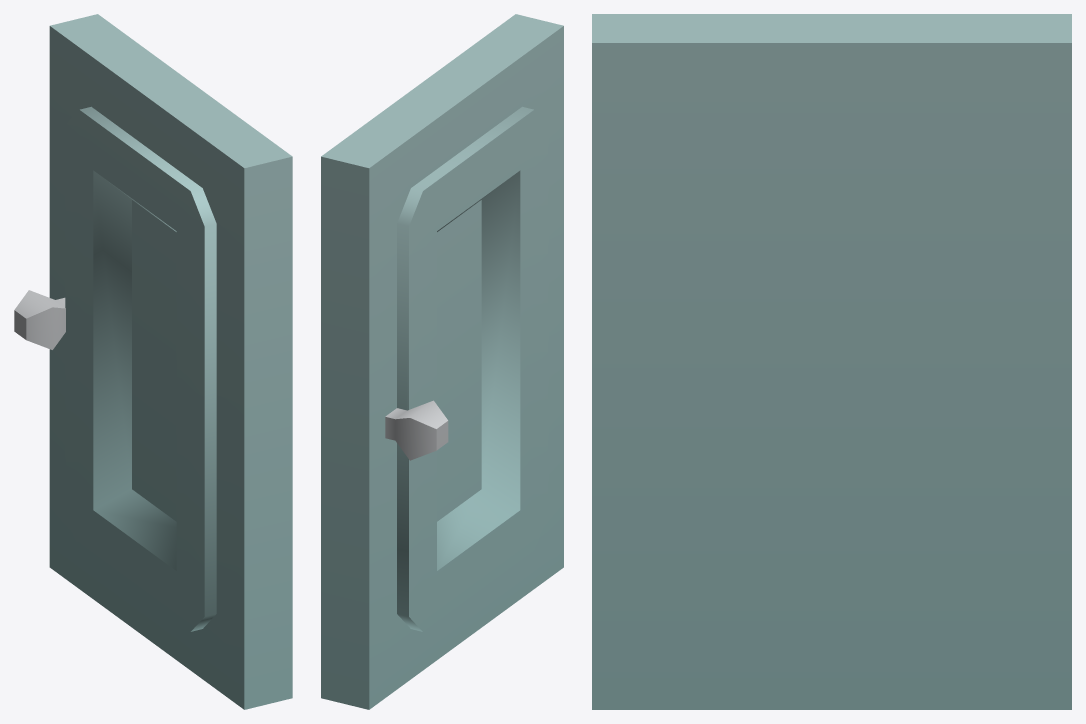
File: (%no-merge) (%open-right) 1.glb
The picture shows the model from 3 angles, left to right: view 1: azimuth 30°, elevation 25°; view 2: azimuth 150°, elevation 25°; view 3: azimuth 270°, elevation 25°; orthographic projection. The views are drawn at different scales.
Parts seen in each view (by area): view 1: (%no-merge) (%open-right) 1; view 2: (%no-merge) (%open-right) 1; view 3: (%no-merge) (%open-right) 1.
Part boxes in pixels (box(x1,y1,x2,y2)): (%no-merge) (%open-right) 1: box(14, 14, 292, 709); (%no-merge) (%open-right) 1: box(321, 14, 563, 709); (%no-merge) (%open-right) 1: box(592, 14, 1071, 709).
Bounding box in the file's own units: 0.1032 × 0.537 × 0.35.
